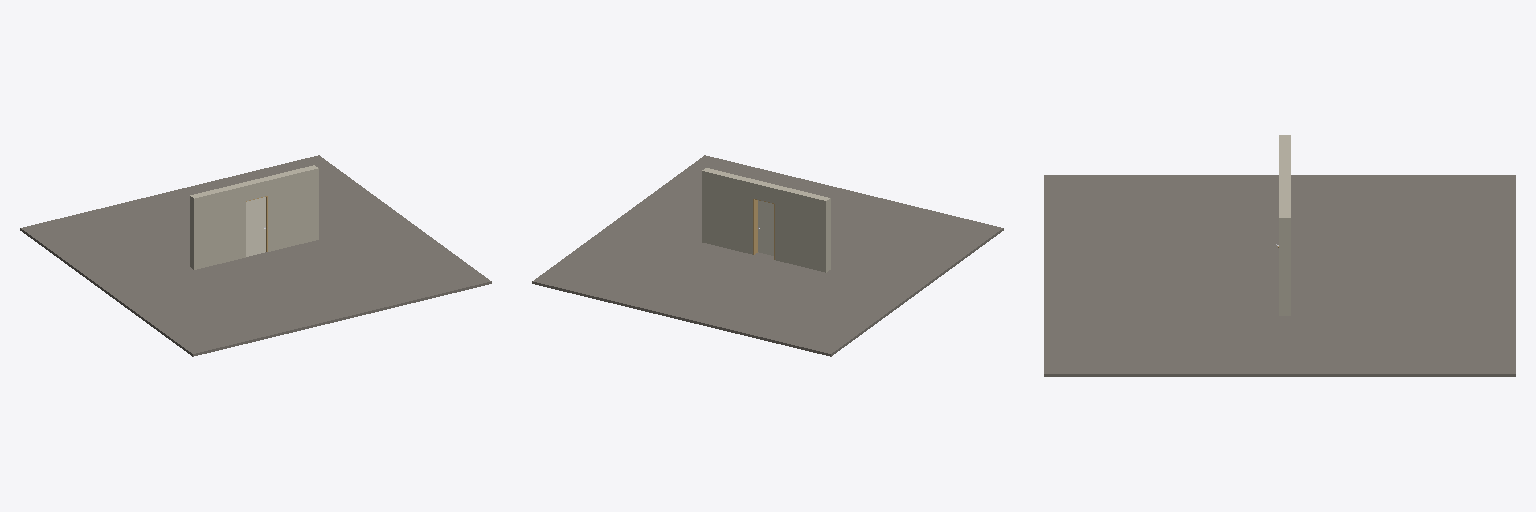
robot.urdf — db0848_swing_single_minimal:
<?xml version="1.0" ?>
<robot xmlns:doorbench="https://github.com/adamraudonis/DoorBench/schema/urdf-ext" name="db0848_swing_single_minimal">
  <link name="world_env">
    <visual name="floor_vis">
      <origin xyz="0 0 -0.05" rpy="0 0 0"/>
      <geometry>
        <box size="12 12 0.1"/>
      </geometry>
      <material name="mat_floor"/>
    </visual>
    <collision name="floor_col">
      <origin xyz="0 0 -0.05" rpy="0 0 0"/>
      <geometry>
        <box size="12 12 0.1"/>
      </geometry>
    </collision>
    <visual name="wall_left_vis">
      <origin xyz="-1.46475 0.121 1.3735" rpy="0 0 0"/>
      <geometry>
        <box size="2.0705 0.3 2.747"/>
      </geometry>
      <material name="mat_wall"/>
    </visual>
    <collision name="wall_left_col">
      <origin xyz="-1.46475 0.121 1.3735" rpy="0 0 0"/>
      <geometry>
        <box size="2.0705 0.3 2.747"/>
      </geometry>
    </collision>
    <visual name="wall_right_vis">
      <origin xyz="1.47975 0.121 1.3735" rpy="0 0 0"/>
      <geometry>
        <box size="2.0405 0.3 2.747"/>
      </geometry>
      <material name="mat_wall"/>
    </visual>
    <collision name="wall_right_col">
      <origin xyz="1.47975 0.121 1.3735" rpy="0 0 0"/>
      <geometry>
        <box size="2.0405 0.3 2.747"/>
      </geometry>
    </collision>
    <visual name="wall_header_vis">
      <origin xyz="0.015 0.121 2.4715" rpy="0 0 0"/>
      <geometry>
        <box size="0.889 0.3 0.551"/>
      </geometry>
      <material name="mat_wall"/>
    </visual>
    <collision name="wall_header_col">
      <origin xyz="0.015 0.121 2.4715" rpy="0 0 0"/>
      <geometry>
        <box size="0.889 0.3 0.551"/>
      </geometry>
    </collision>
    <visual name="jamb_hinge_vis">
      <origin xyz="-0.42 0.121 1.0735" rpy="0 0 0"/>
      <geometry>
        <box size="0.019 0.3 2.147"/>
      </geometry>
      <material name="mat_frame"/>
    </visual>
    <collision name="jamb_hinge_col">
      <origin xyz="-0.42 0.121 1.0735" rpy="0 0 0"/>
      <geometry>
        <box size="0.019 0.3 2.147"/>
      </geometry>
    </collision>
    <visual name="strike_965_wall_n_vis">
      <origin xyz="0.435 0.139425 0.965" rpy="0 0 0"/>
      <geometry>
        <box size="0.049 0.26315 0.0334"/>
      </geometry>
      <material name="mat_frame"/>
    </visual>
    <collision name="strike_965_wall_n_col">
      <origin xyz="0.435 0.139425 0.965" rpy="0 0 0"/>
      <geometry>
        <box size="0.049 0.26315 0.0334"/>
      </geometry>
    </collision>
    <visual name="strike_965_wall_p_vis">
      <origin xyz="0.435 -0.01585 0.965" rpy="0 0 0"/>
      <geometry>
        <box size="0.049 0.016 0.0334"/>
      </geometry>
      <material name="mat_frame"/>
    </visual>
    <collision name="strike_965_wall_p_col">
      <origin xyz="0.435 -0.01585 0.965" rpy="0 0 0"/>
      <geometry>
        <box size="0.049 0.016 0.0334"/>
      </geometry>
    </collision>
    <visual name="strike_965_ramp_vis">
      <origin xyz="0.439636 -0.028673 0.965" rpy="0 0 0.428384"/>
      <geometry>
        <box size="0.049 0.03298 0.0334"/>
      </geometry>
      <material name="mat_frame"/>
    </visual>
    <collision name="strike_965_ramp_col">
      <origin xyz="0.439636 -0.028673 0.965" rpy="0 0 0.428384"/>
      <geometry>
        <box size="0.049 0.03298 0.0334"/>
      </geometry>
    </collision>
    <visual name="strike_965_back_vis">
      <origin xyz="0.44335 0 0.965" rpy="0 0 0"/>
      <geometry>
        <box size="0.0323 0.0157 0.0334"/>
      </geometry>
      <material name="mat_frame"/>
    </visual>
    <collision name="strike_965_back_col">
      <origin xyz="0.44335 0 0.965" rpy="0 0 0"/>
      <geometry>
        <box size="0.0323 0.0157 0.0334"/>
      </geometry>
    </collision>
    <visual name="jamb_strike_0_vis">
      <origin xyz="0.435 0.121 0.47415" rpy="0 0 0"/>
      <geometry>
        <box size="0.049 0.3 0.9483"/>
      </geometry>
      <material name="mat_frame"/>
    </visual>
    <collision name="jamb_strike_0_col">
      <origin xyz="0.435 0.121 0.47415" rpy="0 0 0"/>
      <geometry>
        <box size="0.049 0.3 0.9483"/>
      </geometry>
    </collision>
    <visual name="jamb_strike_1_vis">
      <origin xyz="0.435 0.121 1.56435" rpy="0 0 0"/>
      <geometry>
        <box size="0.049 0.3 1.1653"/>
      </geometry>
      <material name="mat_frame"/>
    </visual>
    <collision name="jamb_strike_1_col">
      <origin xyz="0.435 0.121 1.56435" rpy="0 0 0"/>
      <geometry>
        <box size="0.049 0.3 1.1653"/>
      </geometry>
    </collision>
    <visual name="jamb_head_vis">
      <origin xyz="0.015 0.121 2.1565" rpy="0 0 0"/>
      <geometry>
        <box size="0.889 0.3 0.019"/>
      </geometry>
      <material name="mat_frame"/>
    </visual>
    <collision name="jamb_head_col">
      <origin xyz="0.015 0.121 2.1565" rpy="0 0 0"/>
      <geometry>
        <box size="0.889 0.3 0.019"/>
      </geometry>
    </collision>
    <visual name="head_stud_vis">
      <origin xyz="0.015 0.121 2.181" rpy="0 0 0"/>
      <geometry>
        <box size="0.889 0.3 0.03"/>
      </geometry>
      <material name="mat_wall"/>
    </visual>
    <collision name="head_stud_col">
      <origin xyz="0.015 0.121 2.181" rpy="0 0 0"/>
      <geometry>
        <box size="0.889 0.3 0.03"/>
      </geometry>
    </collision>
    <visual name="stop_hinge_vis">
      <origin xyz="-0.405 0.0385 1.0735" rpy="0 0 0"/>
      <geometry>
        <box size="0.011 0.032 2.147"/>
      </geometry>
      <material name="mat_frame"/>
    </visual>
    <collision name="stop_hinge_col">
      <origin xyz="-0.405 0.0385 1.0735" rpy="0 0 0"/>
      <geometry>
        <box size="0.011 0.032 2.147"/>
      </geometry>
    </collision>
    <visual name="stop_strike_vis">
      <origin xyz="0.405 0.0385 1.0735" rpy="0 0 0"/>
      <geometry>
        <box size="0.011 0.032 2.147"/>
      </geometry>
      <material name="mat_frame"/>
    </visual>
    <collision name="stop_strike_col">
      <origin xyz="0.405 0.0385 1.0735" rpy="0 0 0"/>
      <geometry>
        <box size="0.011 0.032 2.147"/>
      </geometry>
    </collision>
    <visual name="stop_head_vis">
      <origin xyz="0 0.0385 2.1415" rpy="0 0 0"/>
      <geometry>
        <box size="0.821 0.032 0.011"/>
      </geometry>
      <material name="mat_frame"/>
    </visual>
    <collision name="stop_head_col">
      <origin xyz="0 0.0385 2.1415" rpy="0 0 0"/>
      <geometry>
        <box size="0.821 0.032 0.011"/>
      </geometry>
    </collision>
  </link>
  <link name="leaf">
    <inertial>
      <origin xyz="0.4065 0.029 1.076" rpy="0 0 0"/>
      <mass value="51.230306"/>
      <inertia ixx="19.4499784" ixy="0" ixz="0" iyy="22.263516916" iyz="0" izz="2.830068828"/>
    </inertial>
    <visual name="leaf_slab_vis">
      <origin xyz="0.4065 0.029 1.076" rpy="0 0 0"/>
      <geometry>
        <box size="0.813 0.044 2.134"/>
      </geometry>
      <material name="mat_leaf"/>
    </visual>
    <collision name="leaf_slab_col">
      <origin xyz="0.4065 0.029 1.076" rpy="0 0 0"/>
      <geometry>
        <box size="0.813 0.044 2.134"/>
      </geometry>
    </collision>
  </link>
  <link name="leaf_handle">
    <inertial>
      <origin xyz="-0.025809 0 0" rpy="0 0 0"/>
      <mass value="0.794529"/>
      <inertia ixx="0.003205607" ixy="0" ixz="0" iyy="0.001153119" iyz="0" izz="0.004222855"/>
    </inertial>
    <visual name="leaf_handle_lever_n_vis">
      <origin xyz="0 -0.022 0" rpy="1.570796 0 0"/>
      <geometry>
        <mesh filename="../../hardware/lever_748f08efca.obj"/>
      </geometry>
      <material name="mat_op_chrome"/>
    </visual>
    <collision name="leaf_handle_lever_col_n_col">
      <origin xyz="-0.056 -0.077 0" rpy="0 -1.570796 0"/>
      <geometry>
        <cylinder radius="0.008" length="0.096"/>
      </geometry>
    </collision>
    <collision name="leaf_handle_hub_col_n_col">
      <origin xyz="0 -0.052 0" rpy="-1.570796 0 0"/>
      <geometry>
        <cylinder radius="0.012" length="0.044"/>
      </geometry>
    </collision>
    <visual name="leaf_handle_lever_p_vis">
      <origin xyz="0 0.022 0" rpy="-1.570796 0 0"/>
      <geometry>
        <mesh filename="../../hardware/lever_748f08efca.obj"/>
      </geometry>
      <material name="mat_op_chrome"/>
    </visual>
    <collision name="leaf_handle_lever_col_p_col">
      <origin xyz="-0.056 0.077 0" rpy="0 -1.570796 0"/>
      <geometry>
        <cylinder radius="0.008" length="0.096"/>
      </geometry>
    </collision>
    <collision name="leaf_handle_hub_col_p_col">
      <origin xyz="0 0.052 0" rpy="-1.570796 0 0"/>
      <geometry>
        <cylinder radius="0.012" length="0.044"/>
      </geometry>
    </collision>
  </link>
  <link name="leaf_latch_bolt">
    <inertial>
      <origin xyz="-0.00865 0 0" rpy="0 0 0"/>
      <mass value="0.041419"/>
      <inertia ixx="0.000000798" ixy="0" ixz="0" iyy="0.000005598" iyz="0" izz="0.000005598"/>
    </inertial>
    <visual name="leaf_latch_bolt_capsule_vis">
      <origin xyz="-0.00865 0 0" rpy="0 1.570796 0"/>
      <geometry>
        <cylinder radius="0.00635" length="0.03"/>
      </geometry>
      <material name="mat_bolt"/>
    </visual>
    <collision name="leaf_latch_bolt_capsule_col">
      <origin xyz="-0.00865 0 0" rpy="0 1.570796 0"/>
      <geometry>
        <cylinder radius="0.00635" length="0.03"/>
      </geometry>
    </collision>
  </link>
  <joint name="leaf_hinge" type="revolute">
    <origin xyz="-0.4075 -0.029 0" rpy="0 0 0"/>
    <parent link="world_env"/>
    <child link="leaf"/>
    <axis xyz="0 0 -1"/>
    <limit lower="0" upper="1.570796" effort="2000" velocity="10"/>
    <dynamics damping="0.218374" friction="0.510946"/>
    <doorbench:closer damping_closing="0" damping_opening="0" backcheck_angle="0" backcheck_damping="0"/>
  </joint>
  <joint name="leaf_handle_hinge" type="revolute">
    <origin xyz="0.753 0.029 0.965" rpy="0 0 0"/>
    <parent link="leaf"/>
    <child link="leaf_handle"/>
    <axis xyz="0 -1 0"/>
    <limit lower="0" upper="0.87" effort="2000" velocity="10"/>
    <dynamics damping="0.205085" friction="0.04"/>
    <doorbench:spring stiffness="0.9" springref="-0.444444" note="tau = -stiffness*(q - springref); not native URDF"/>
  </joint>
  <joint name="leaf_latch_bolt_slide" type="prismatic">
    <origin xyz="0.813 0.029 0.965" rpy="0 0 0"/>
    <parent link="leaf"/>
    <child link="leaf_latch_bolt"/>
    <axis xyz="-1 0 0"/>
    <limit lower="0" upper="0.0127" effort="5000" velocity="10"/>
    <dynamics damping="2" friction="0.3"/>
    <doorbench:spring stiffness="300" springref="-0.008333" note="tau = -stiffness*(q - springref); not native URDF"/>
    <mimic joint="leaf_handle_hinge" multiplier="0.016076" offset="0"/>
    <doorbench:coupling one_sided="true" note="MJCF uses a one-sided tendon (bolt may retract further, e.g. riding over the strike lip); mimic is bilateral"/>
  </joint>
  <material name="mat_bolt">
    <color rgba="0.85 0.66 0.3 1"/>
  </material>
  <material name="mat_floor">
    <color rgba="0.55 0.53 0.5 1"/>
  </material>
  <material name="mat_frame">
    <color rgba="0.82 0.7 0.5 1"/>
  </material>
  <material name="mat_leaf">
    <color rgba="0.9 0.88 0.82 1"/>
  </material>
  <material name="mat_op_chrome">
    <color rgba="0.9 0.9 0.92 1"/>
  </material>
  <material name="mat_wall">
    <color rgba="0.78 0.76 0.7 1"/>
  </material>
</robot>

--- What the picture shows (computed from the rendered views, not written in the file) ---
The picture shows the robot from 3 angles, left to right: view 1: azimuth 30°, elevation 25°; view 2: azimuth 150°, elevation 25°; view 3: azimuth 270°, elevation 25°; orthographic projection.
Model db0848_swing_single_minimal with 4 links and 3 joints (2 revolute, 1 prismatic), rooted at world_env, posed all joints at 0.
Visible links, largest first — view 1: world_env, leaf; view 2: world_env, leaf; view 3: world_env.
Link boxes in pixels (box(x1,y1,x2,y2)): world_env: box(20, 155, 491, 356); leaf: box(246, 197, 265, 256); world_env: box(532, 155, 1003, 356); leaf: box(758, 200, 773, 255); world_env: box(1044, 135, 1515, 376).
Size in the robot's own frame: 12 by 12 by 2.85 metres.
2 mesh visuals loaded from 1 distinct referenced files (1 OBJ).
